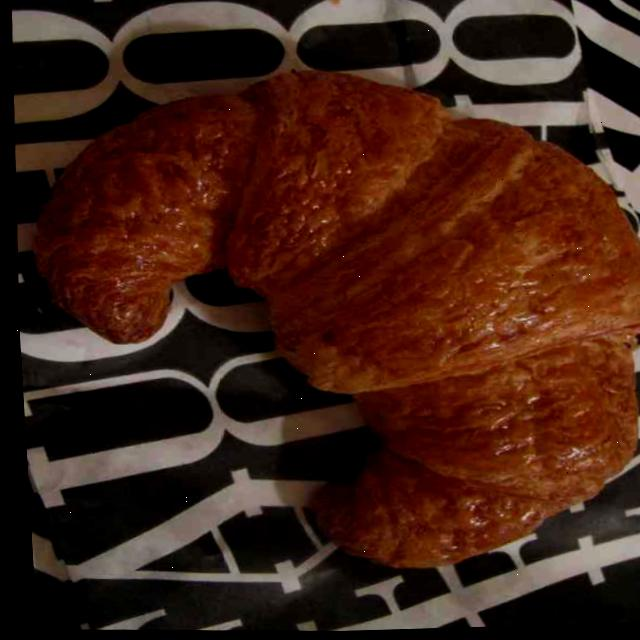面包点心: (3, 46, 640, 594)
